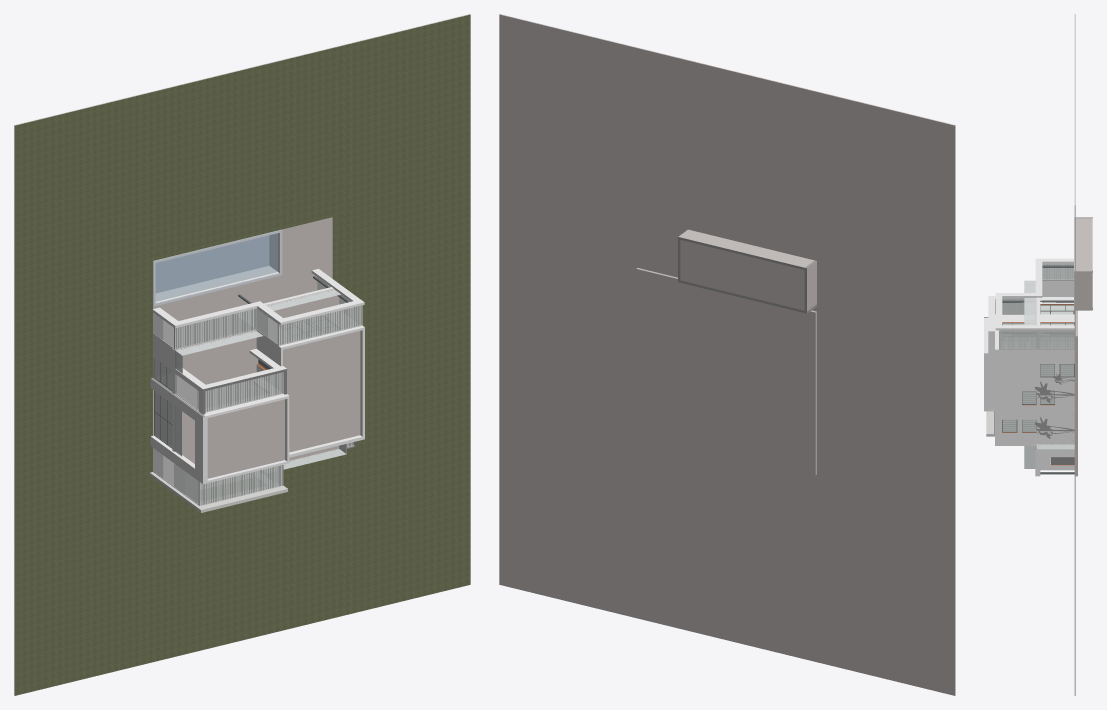
The model's file is villa22_low.glb.
3 views of the same model, side by side, from view 1: azimuth 30°, elevation 25°; view 2: azimuth 150°, elevation 25°; view 3: azimuth 270°, elevation 25° (orthographic). The views are drawn at different scales.
Parts seen in each view (by area): view 1: Obj.13706:1, Obj.13706, Obj.10197:1, Obj.12904, Obj.13535, Obj.20231, Obj.11683:4, Obj.20246, Obj.13357, Obj.11683; view 2: Obj.13706, Obj.10198:1; view 3: Obj.10197:1, Obj.12904, Obj.13706, Obj.13535, Obj.10297:1, Obj.10198:1, Obj.11683:4, Obj.13357.
Part boxes in pixels (x1,y1,x2,y2): Obj.13706:1: (15,14,470,695); Obj.13706: (14,14,470,695); Obj.10197:1: (150,233,364,484); Obj.12904: (153,278,361,505); Obj.13535: (153,277,362,505); Obj.20231: (155,233,277,301); Obj.11683:4: (175,289,346,469); Obj.20246: (153,229,282,306); Obj.13357: (149,472,287,512); Obj.11683: (175,289,346,469); Obj.13706: (499,14,955,695); Obj.10198:1: (678,237,816,313); Obj.10197:1: (984,258,1074,476); Obj.12904: (1000,263,1073,449); Obj.13706: (988,14,1092,695); Obj.13535: (994,264,1074,449); Obj.10297:1: (1002,265,1074,474); Obj.10198:1: (984,217,1092,441); Obj.11683:4: (1024,280,1035,468); Obj.13357: (986,411,994,436).
Bounding box in the file's own units: 39.59 × 47.32 × 9.5.
Materials: 31 (8 with a texture image).
